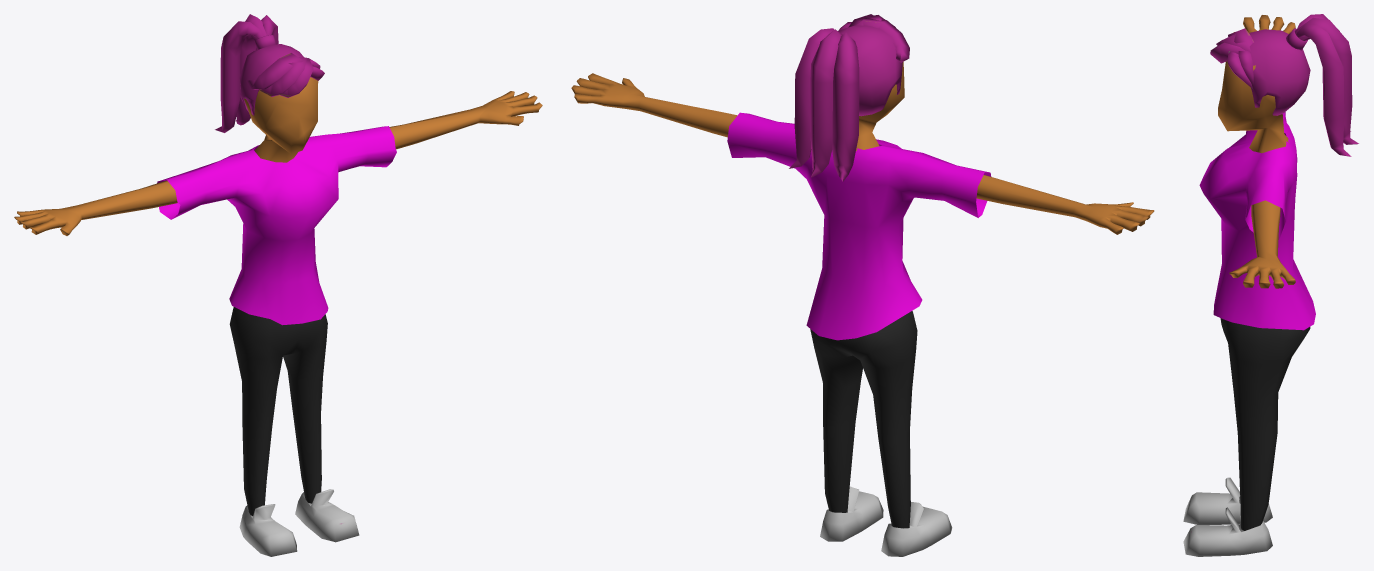
File: Hippoletta_T.fbx
3 views of the same model, side by side, from view 1: azimuth 30°, elevation 25°; view 2: azimuth 150°, elevation 25°; view 3: azimuth 270°, elevation 25° (orthographic). The views are drawn at different scales.
Parts seen in each view (by area): view 1: Hippoletta; view 2: Hippoletta; view 3: Hippoletta.
Boxes of the visible parts, x1,y1,x2,y2 form: Hippoletta: (14,14,542,556); Hippoletta: (571,14,1154,556); Hippoletta: (1183,14,1358,556).
Bounding box in the file's own units: 160 × 144 × 44.52.
